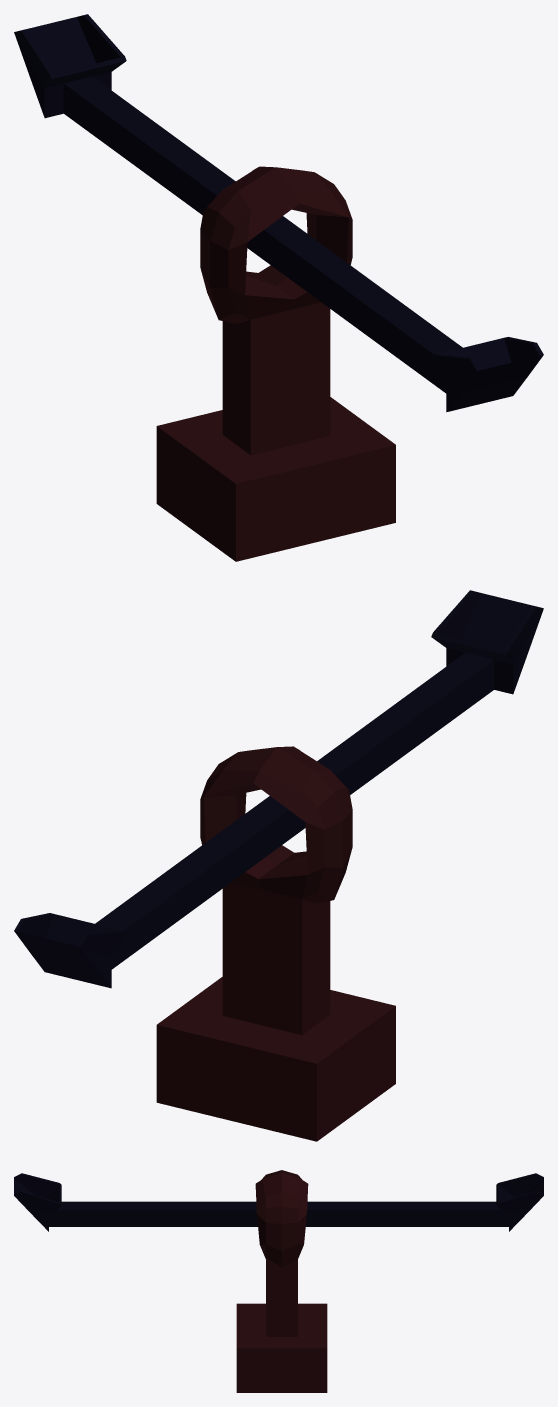
Rendered from CatapultTemp.fbx.
3 renders of one model, top to bottom at view 1: azimuth 30°, elevation 25°; view 2: azimuth 150°, elevation 25°; view 3: azimuth 270°, elevation 25°, orthographic. The views are drawn at different scales.
Parts seen in each view (by area): view 1: Fulvrum, Lever; view 2: Fulvrum, Lever; view 3: Lever, Fulvrum.
Boxes of the visible parts, box(x1,y1,x2,y2) form: Fulvrum: box(156, 166, 395, 561); Lever: box(14, 14, 543, 412); Fulvrum: box(156, 746, 395, 1141); Lever: box(14, 590, 543, 988); Lever: box(14, 1173, 543, 1231); Fulvrum: box(236, 1170, 327, 1392).
Bounding box in the file's own units: 430 × 888 × 2155.
